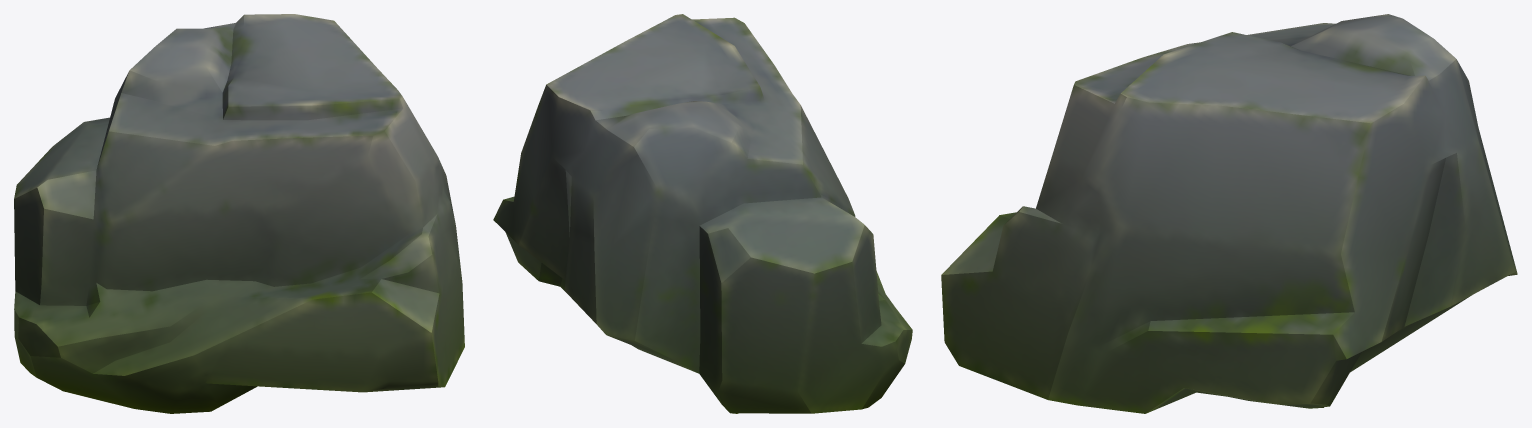
File: rock_medium_3.glb
3 views of the same model, side by side, from view 1: azimuth 30°, elevation 25°; view 2: azimuth 150°, elevation 25°; view 3: azimuth 270°, elevation 25° (orthographic). The views are drawn at different scales.
Bounding box in the file's own units: 3.42 × 2.32 × 3.48.
1 material, 1 textured.
